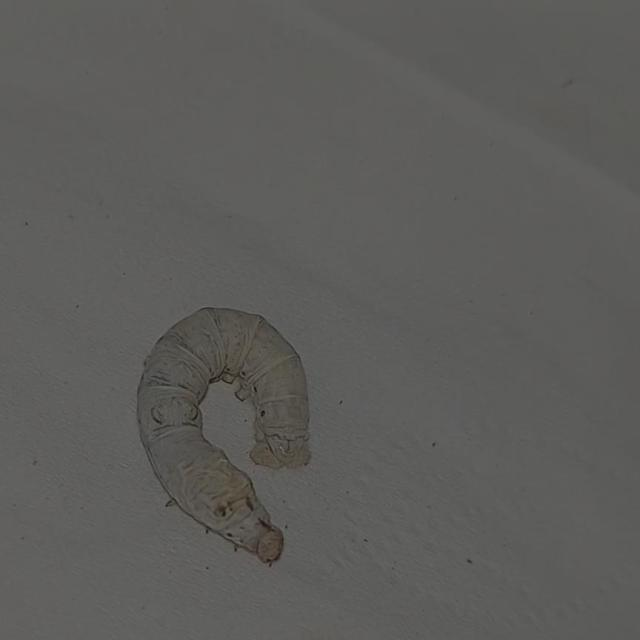Healthy: (127, 301, 325, 569)
